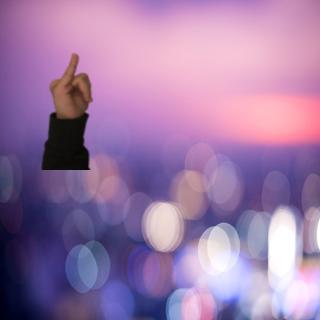HAVE: (44, 50, 96, 122)
